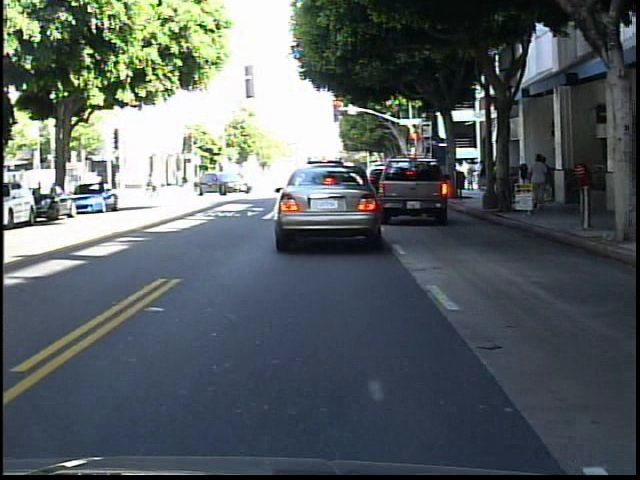person: (531, 153, 548, 209), (542, 154, 556, 208)
